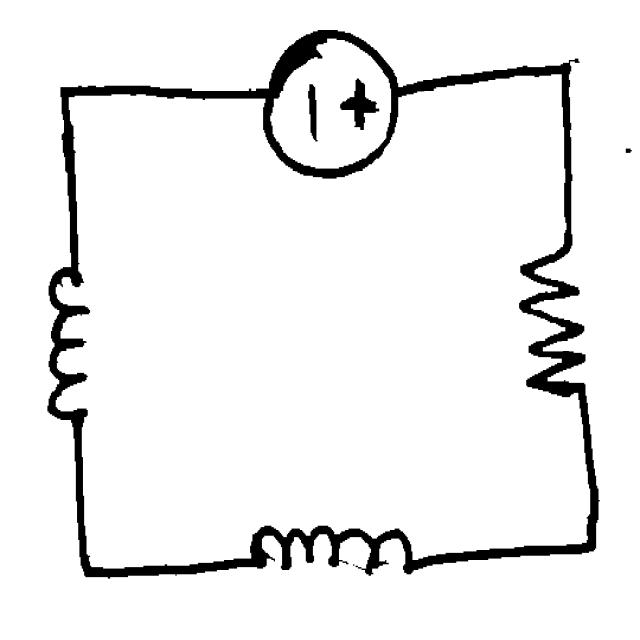dc: (255, 15, 406, 192)
inductor: (232, 505, 429, 599), (39, 236, 109, 444)
resistor: (505, 218, 605, 410)
